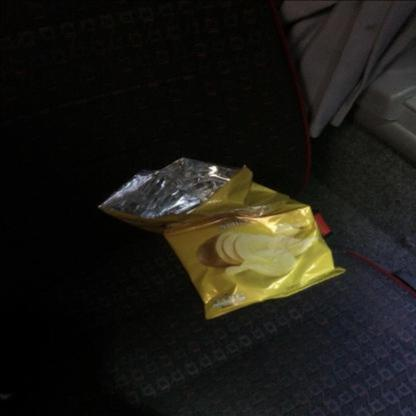Plastic bag - wrapper: (97, 156, 346, 319)
